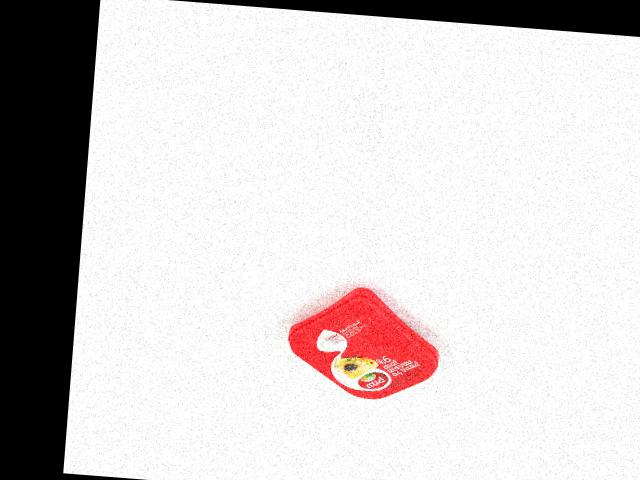cheese: (283, 281, 444, 404)
